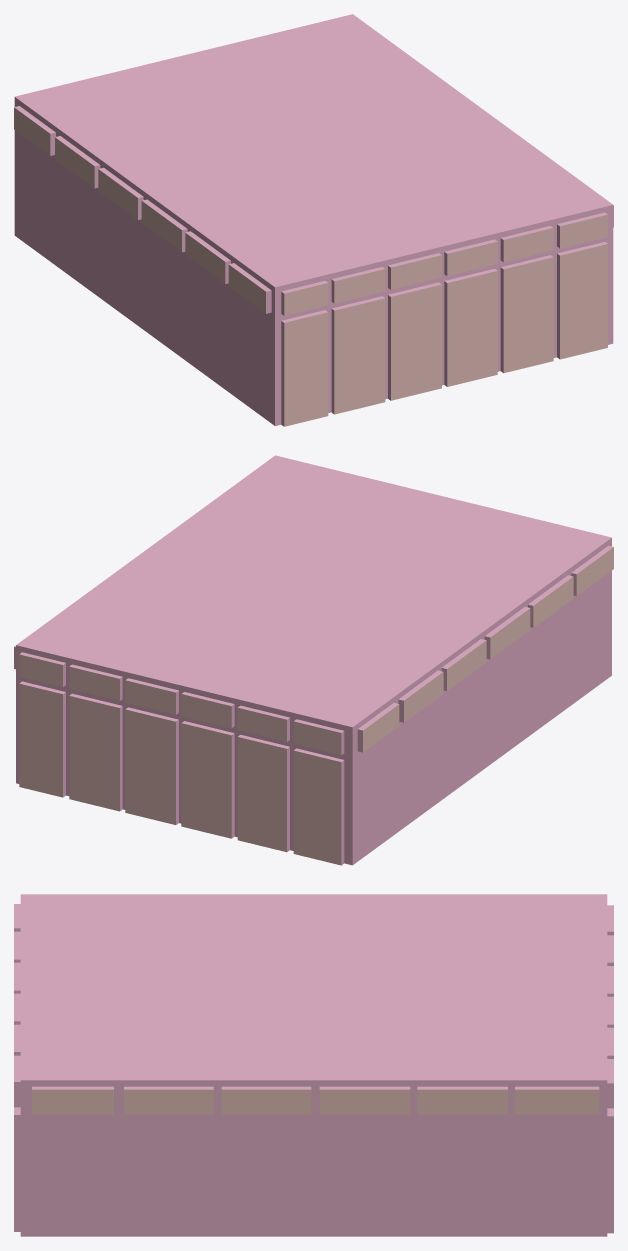
File: Office (1).fbx
3 renders of one model, top to bottom at view 1: azimuth 30°, elevation 25°; view 2: azimuth 150°, elevation 25°; view 3: azimuth 270°, elevation 25°, orthographic. The views are drawn at different scales.
Parts seen in each view (by area): view 1: floor1, wall3, wall2; view 2: floor1, wall1, wall2; view 3: floor1, wall, wall1, wall3.
Boxes of the visible parts, x1,y1,x2,y2 form: floor1: (15,14,612,287); wall3: (275,205,613,426); wall2: (14,97,274,425); floor1: (16,455,611,727); wall1: (16,645,352,865); wall2: (352,538,613,864); floor1: (20,894,607,1080); wall: (20,1080,607,1236); wall1: (607,905,613,1233); wall3: (14,904,20,1231).
Size of the model in its own units: 3457 by 1314 by 4567.
